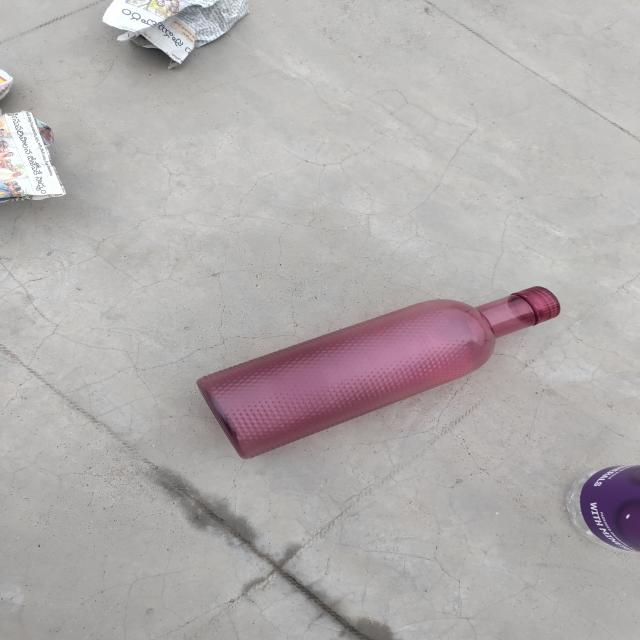dry: (133, 268, 583, 460), (0, 62, 105, 232), (96, 3, 276, 73), (579, 462, 640, 556)
